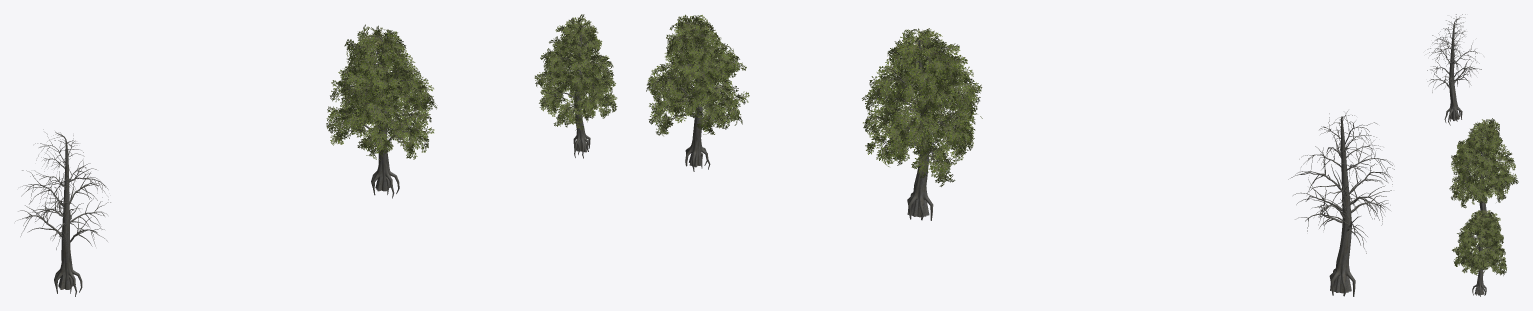
Rendered from trees.glb.
The picture shows the model from 3 angles, left to right: view 1: azimuth 30°, elevation 25°; view 2: azimuth 150°, elevation 25°; view 3: azimuth 270°, elevation 25°; orthographic projection. The views are drawn at different scales.
Parts seen in each view (by area): view 1: Linden_LOD0, Linden_LOD0_M_Branch.005_0.001, Linden_LOD0_M_Bark.005_0.002, Linden_LOD0_M_Bark.005_0.001; view 2: Linden_LOD0, Linden_LOD0_M_Branch.005_0.001, Linden_LOD0_M_Bark.005_0.002, Linden_LOD0_M_Bark.005_0.001; view 3: Linden_LOD0, Linden_LOD0_M_Branch.005_0.001, Linden_LOD0_M_Bark.005_0.002, Linden_LOD0_M_Bark.005_0.001.
Boxes of the visible parts, x1,y1,x2,y2 form: Linden_LOD0: (326, 24, 437, 198); Linden_LOD0_M_Branch.005_0.001: (534, 14, 617, 130); Linden_LOD0_M_Bark.005_0.002: (15, 129, 110, 296); Linden_LOD0_M_Bark.005_0.001: (544, 21, 611, 158); Linden_LOD0: (862, 28, 982, 220); Linden_LOD0_M_Branch.005_0.001: (646, 14, 749, 136); Linden_LOD0_M_Bark.005_0.002: (1288, 110, 1394, 296); Linden_LOD0_M_Bark.005_0.001: (653, 22, 734, 171); Linden_LOD0: (1449, 118, 1518, 215); Linden_LOD0_M_Branch.005_0.001: (1452, 210, 1506, 275); Linden_LOD0_M_Bark.005_0.002: (1427, 14, 1481, 125); Linden_LOD0_M_Bark.005_0.001: (1460, 215, 1502, 296).
Size of the model in its own units: 68.29 by 18.63 by 14.28.
4 materials, 4 textured.
